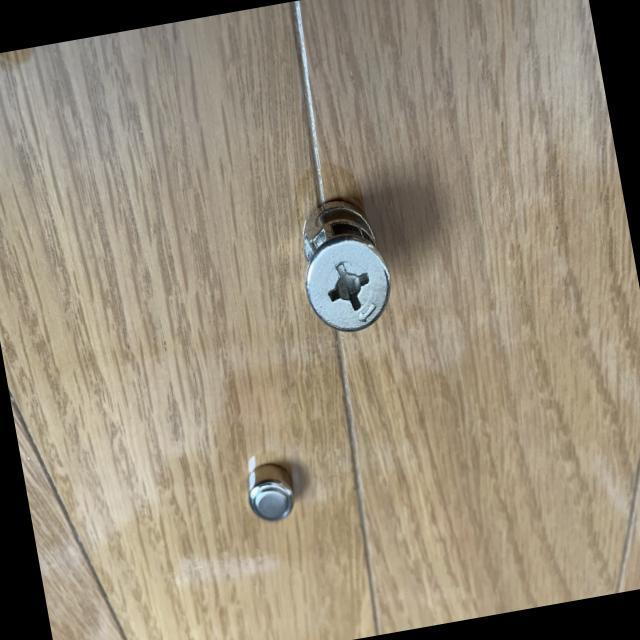COIN: (242, 459, 296, 524)
